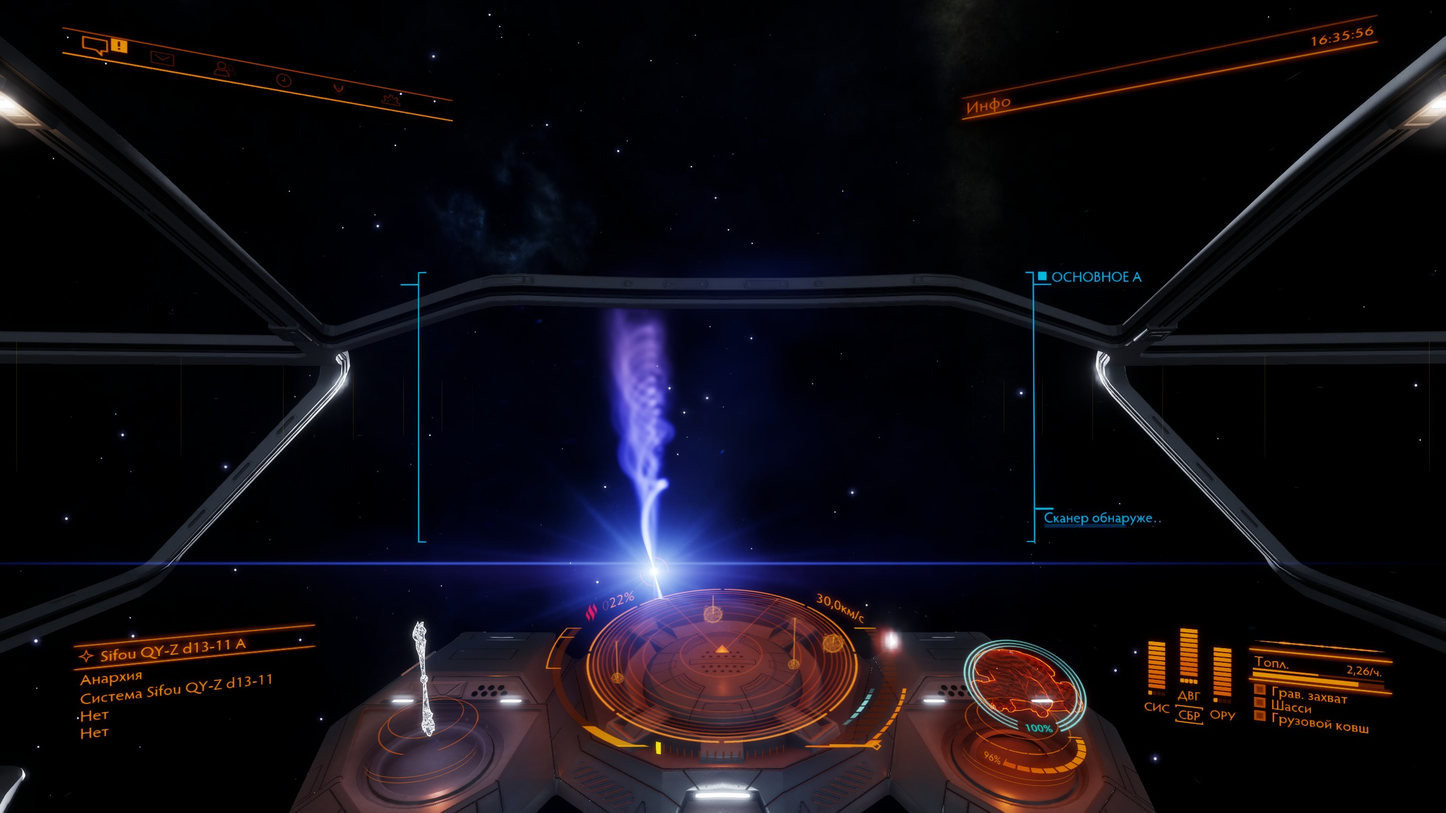jetcone: (601, 302, 690, 543), (605, 301, 690, 545)
